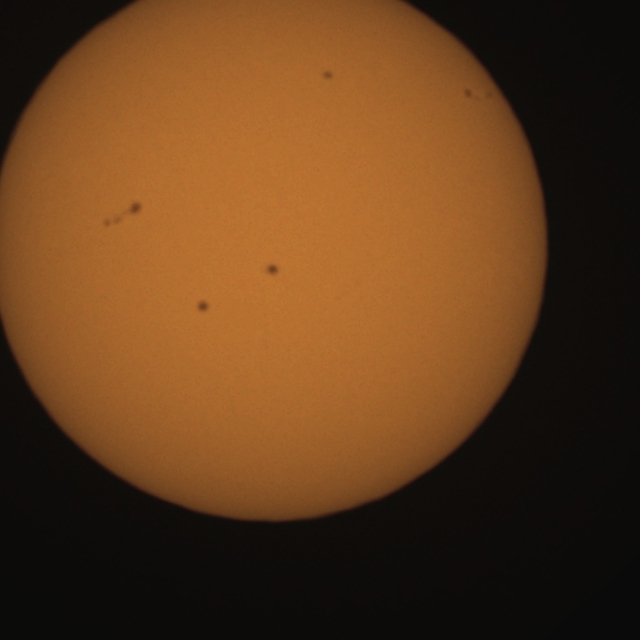sunspot: (102, 200, 144, 229), (463, 86, 495, 103), (264, 262, 281, 278), (195, 298, 211, 315), (320, 69, 334, 82)
